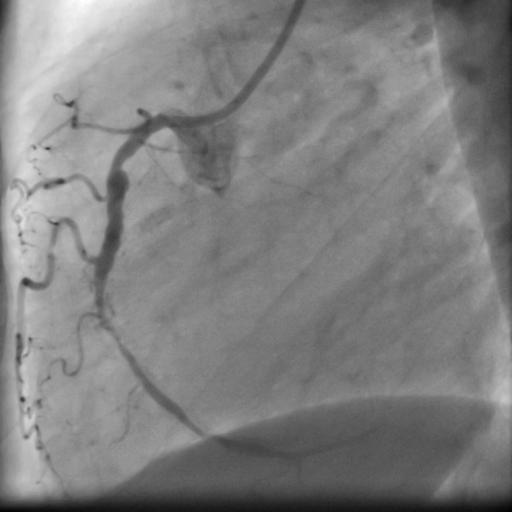Stenosis: (108, 151, 129, 174)
